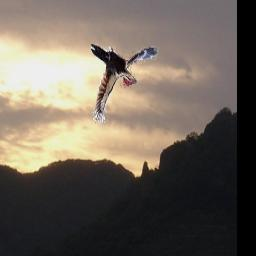Woodpecker: (91, 44, 159, 126)
